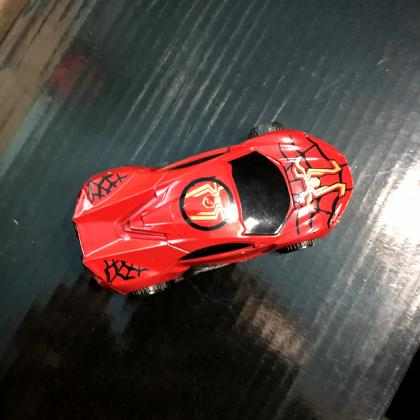Car: (72, 130, 355, 296)
